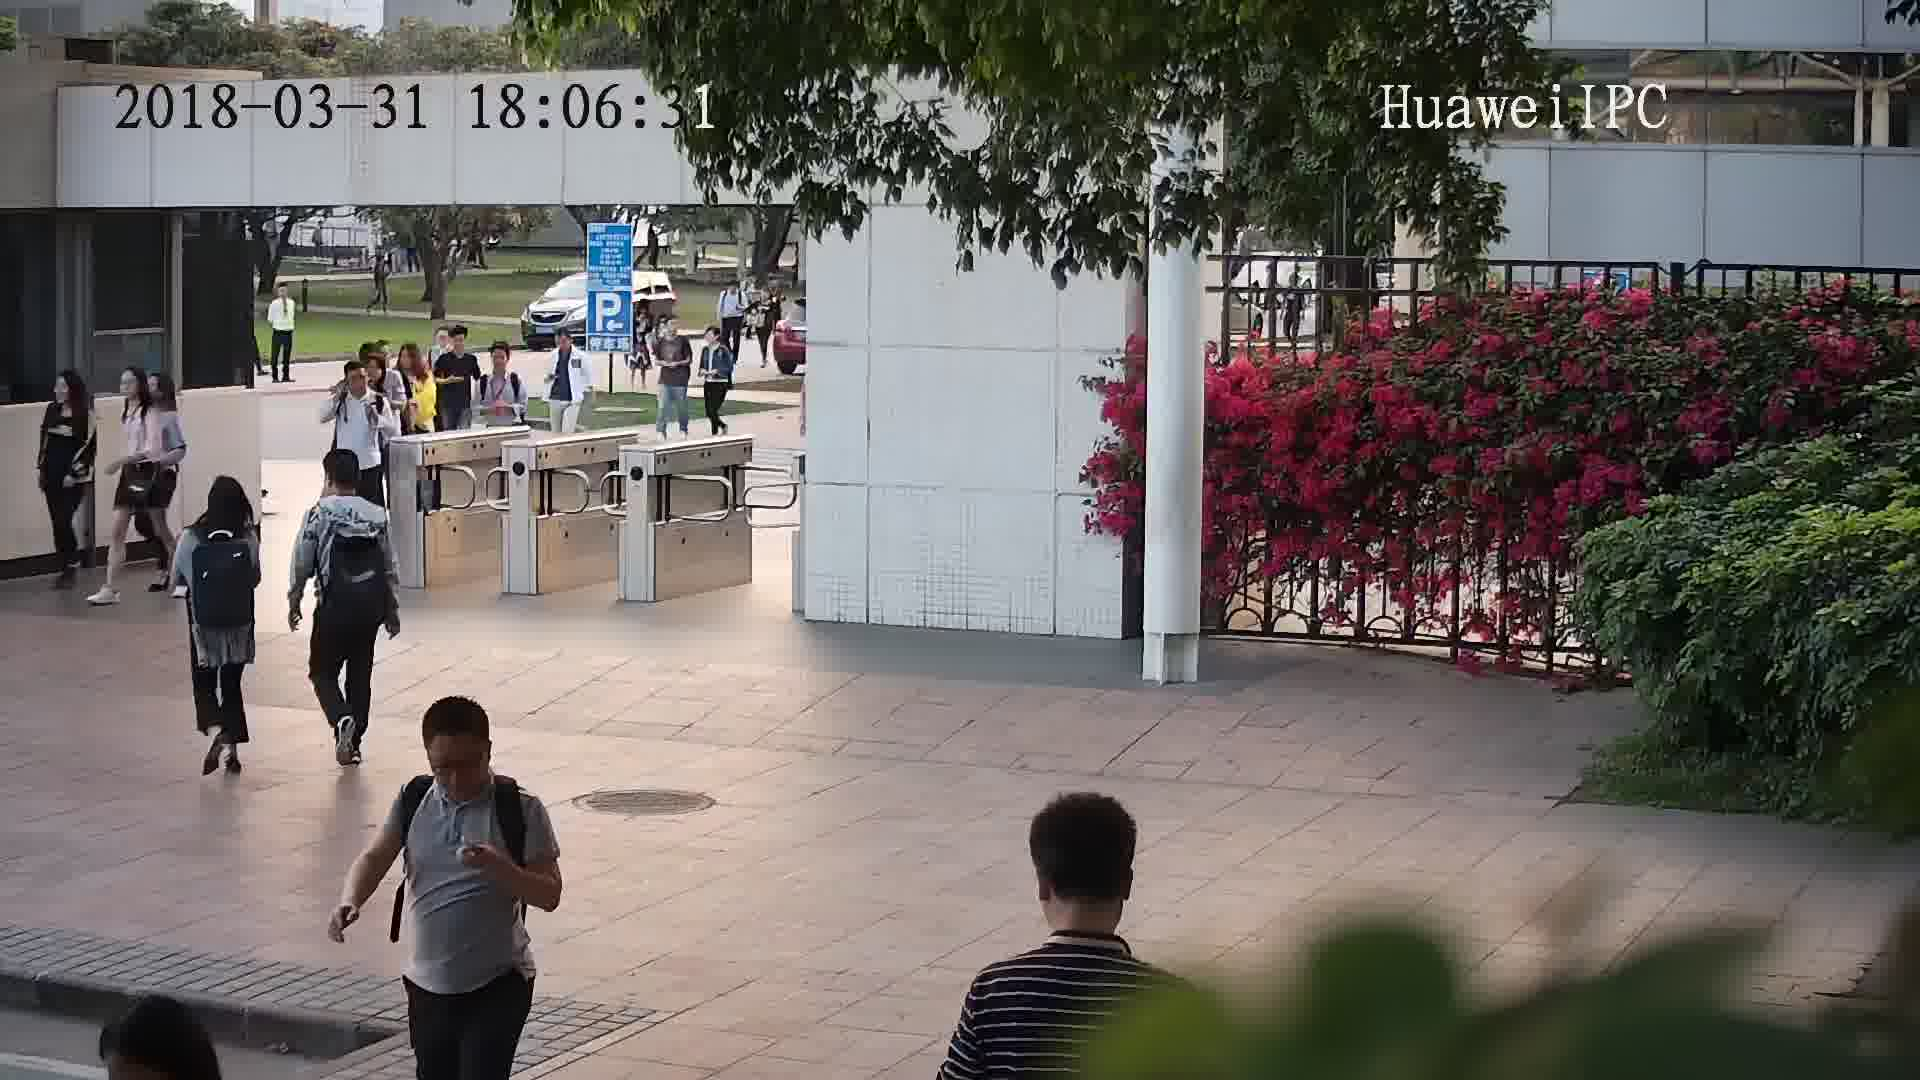face: (423, 732, 493, 802)
person: (962, 789, 1185, 1027), (394, 693, 543, 829), (308, 447, 389, 529), (182, 475, 263, 555), (45, 366, 98, 431), (139, 366, 186, 428), (115, 361, 158, 422), (334, 361, 382, 410), (482, 338, 527, 386), (361, 343, 401, 390), (394, 338, 433, 386), (436, 323, 477, 366), (554, 327, 587, 362), (701, 322, 733, 355), (656, 310, 689, 342), (265, 277, 298, 307), (630, 299, 655, 330), (718, 276, 748, 298)
